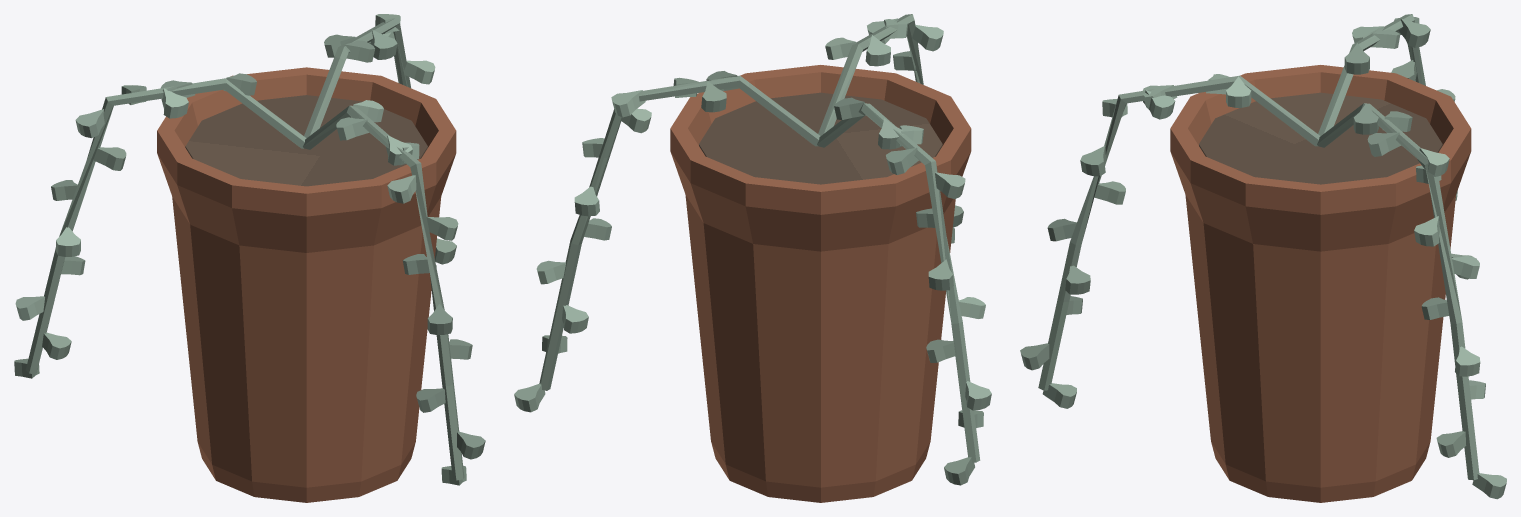
Rendered from new-morganianum.glb.
The picture shows the model from 3 angles, left to right: view 1: azimuth 30°, elevation 25°; view 2: azimuth 150°, elevation 25°; view 3: azimuth 270°, elevation 25°; orthographic projection.
Visible parts, largest first — view 1: new-morganianum/review-terra-vessel, new-morganianum/review-rooted-soil, new-morganianum/stem-014, new-morganianum/stem-027, new-morganianum/stem-001, new-morganianum/pendent-fleshy-leaf-032, new-morganianum/pendent-fleshy-leaf-019, new-morganianum/pendent-fleshy-leaf-020, new-morganianum/pendent-fleshy-leaf-025, new-morganianum/pendent-fleshy-leaf-017, new-morganianum/pendent-fleshy-leaf-038, new-morganianum/pendent-fleshy-leaf-035 (+8 smaller); view 2: new-morganianum/review-terra-vessel, new-morganianum/review-rooted-soil, new-morganianum/stem-001, new-morganianum/stem-014, new-morganianum/stem-027, new-morganianum/pendent-fleshy-leaf-013, new-morganianum/pendent-fleshy-leaf-026, new-morganianum/pendent-fleshy-leaf-018, new-morganianum/pendent-fleshy-leaf-005, new-morganianum/pendent-fleshy-leaf-032, new-morganianum/pendent-fleshy-leaf-019, new-morganianum/pendent-fleshy-leaf-024 (+8 smaller); view 3: new-morganianum/review-terra-vessel, new-morganianum/review-rooted-soil, new-morganianum/stem-027, new-morganianum/stem-001, new-morganianum/stem-014, new-morganianum/pendent-fleshy-leaf-013, new-morganianum/pendent-fleshy-leaf-018, new-morganianum/pendent-fleshy-leaf-039, new-morganianum/pendent-fleshy-leaf-033, new-morganianum/pendent-fleshy-leaf-004, new-morganianum/pendent-fleshy-leaf-038, new-morganianum/pendent-fleshy-leaf-007 (+9 smaller).
Part boxes in pixels (left/top/right/bottom): new-morganianum/review-terra-vessel: left=157, top=67, right=456, bottom=502; new-morganianum/review-rooted-soil: left=185, top=95, right=427, bottom=186; new-morganianum/stem-014: left=25, top=78, right=306, bottom=374; new-morganianum/stem-027: left=303, top=105, right=464, bottom=480; new-morganianum/stem-001: left=304, top=18, right=410, bottom=138; new-morganianum/pendent-fleshy-leaf-032: left=387, top=175, right=416, bottom=203; new-morganianum/pendent-fleshy-leaf-019: left=75, top=109, right=104, bottom=138; new-morganianum/pendent-fleshy-leaf-020: left=93, top=147, right=126, bottom=170; new-morganianum/pendent-fleshy-leaf-025: left=42, top=332, right=71, bottom=359; new-morganianum/pendent-fleshy-leaf-017: left=161, top=88, right=188, bottom=118; new-morganianum/pendent-fleshy-leaf-038: left=457, top=431, right=485, bottom=459; new-morganianum/pendent-fleshy-leaf-035: left=427, top=304, right=452, bottom=335; new-morganianum/review-terra-vessel: left=670, top=65, right=971, bottom=502; new-morganianum/review-rooted-soil: left=699, top=92, right=942, bottom=184; new-morganianum/stem-001: left=539, top=75, right=820, bottom=390; new-morganianum/stem-014: left=817, top=103, right=980, bottom=462; new-morganianum/stem-027: left=818, top=14, right=923, bottom=135; new-morganianum/pendent-fleshy-leaf-013: left=514, top=383, right=545, bottom=412; new-morganianum/pendent-fleshy-leaf-026: left=944, top=457, right=974, bottom=485; new-morganianum/pendent-fleshy-leaf-018: left=886, top=147, right=918, bottom=174; new-morganianum/pendent-fleshy-leaf-005: left=611, top=90, right=645, bottom=117; new-morganianum/pendent-fleshy-leaf-032: left=912, top=25, right=943, bottom=51; new-morganianum/pendent-fleshy-leaf-019: left=935, top=172, right=965, bottom=198; new-morganianum/pendent-fleshy-leaf-024: left=965, top=381, right=991, bottom=410; new-morganianum/review-terra-vessel: left=1170, top=65, right=1471, bottom=502; new-morganianum/review-rooted-soil: left=1199, top=92, right=1442, bottom=184; new-morganianum/stem-027: left=1038, top=75, right=1320, bottom=390; new-morganianum/stem-001: left=1317, top=103, right=1479, bottom=480; new-morganianum/stem-014: left=1318, top=14, right=1425, bottom=135; new-morganianum/pendent-fleshy-leaf-013: left=1472, top=473, right=1506, bottom=499; new-morganianum/pendent-fleshy-leaf-018: left=1399, top=18, right=1430, bottom=47; new-morganianum/pendent-fleshy-leaf-039: left=1042, top=383, right=1076, bottom=408; new-morganianum/pendent-fleshy-leaf-033: left=1080, top=146, right=1106, bottom=176; new-morganianum/pendent-fleshy-leaf-004: left=1367, top=132, right=1401, bottom=156; new-morganianum/pendent-fleshy-leaf-038: left=1020, top=343, right=1049, bottom=370; new-morganianum/pendent-fleshy-leaf-007: left=1414, top=216, right=1439, bottom=246.
Bounding box in the file's own units: 0.3258 × 0.2684 × 0.3074.
Materials: 3 (3 with a texture image).
